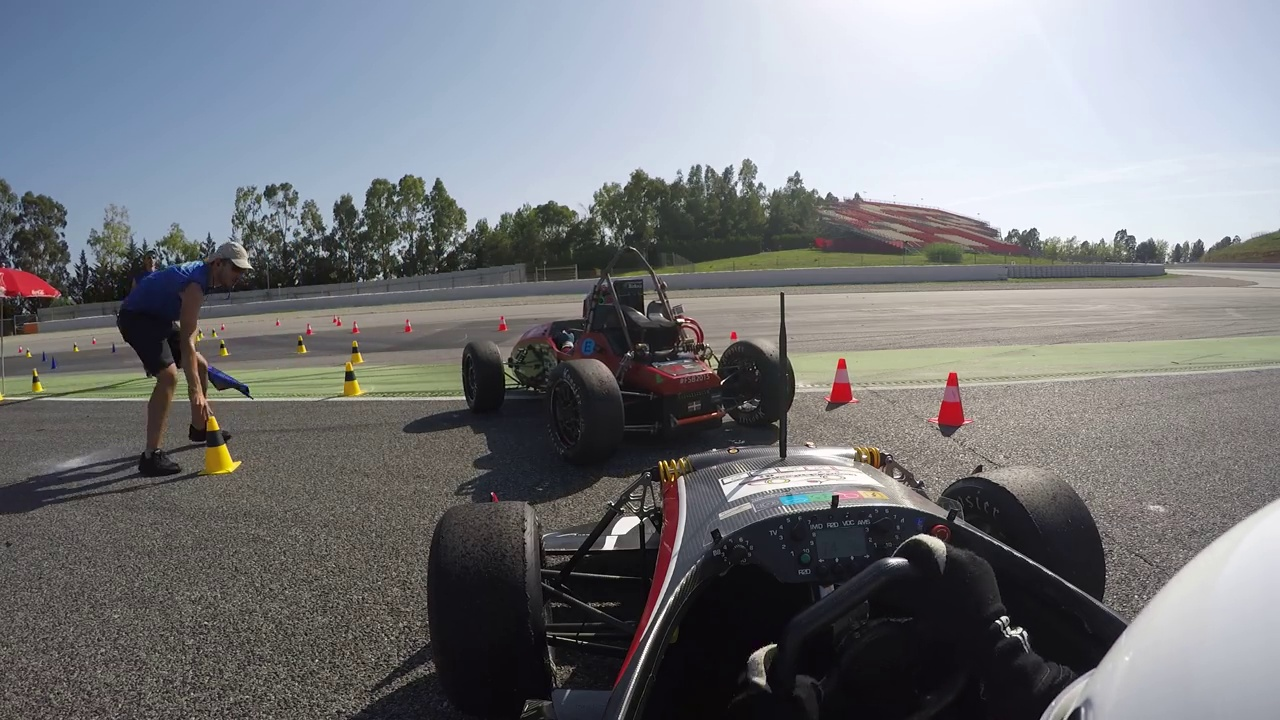Cone: (202, 414, 241, 479), (935, 372, 972, 426), (826, 356, 854, 402), (341, 359, 362, 403), (350, 338, 366, 364)
